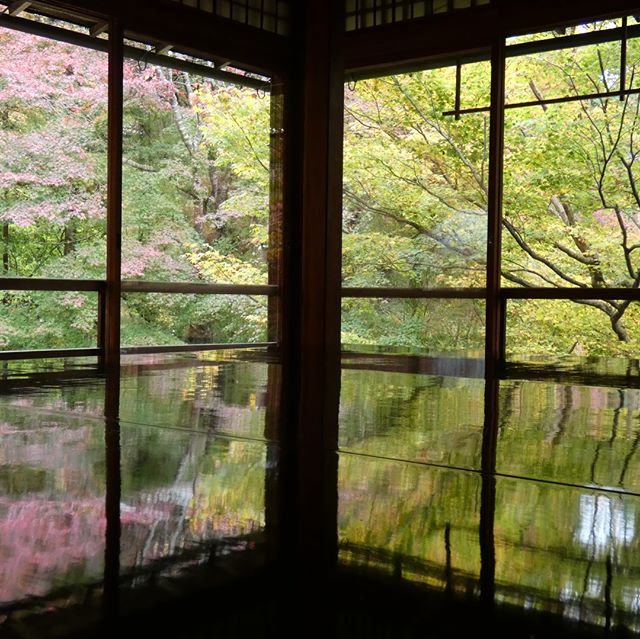vegetation: (346, 60, 630, 352), (1, 60, 283, 352)
window: (342, 27, 640, 353), (1, 54, 297, 380)
